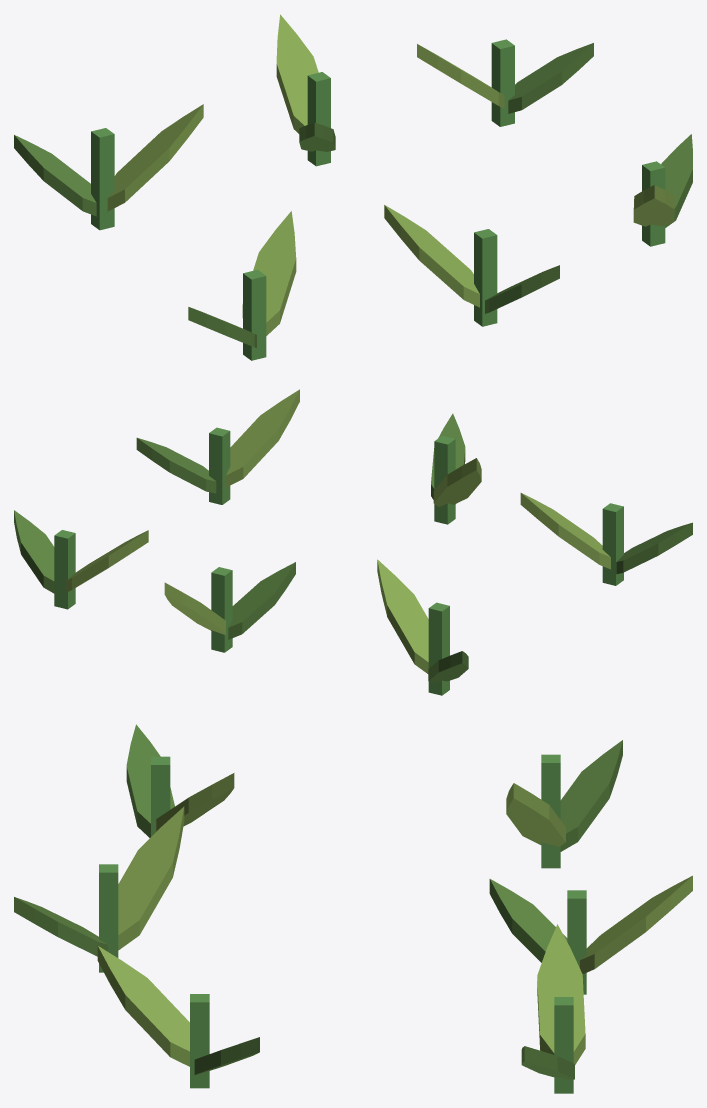
File: crop_wheat_sprout.glb
3 renders of one model, top to bottom at view 1: azimuth 30°, elevation 25°; view 2: azimuth 150°, elevation 25°; view 3: azimuth 270°, elevation 25°, orthographic. The views are drawn at different scales.
Visible parts, largest first — view 1: body__leaf2, body__green2, body__leaf; view 2: body__leaf2, body__green2, body__leaf; view 3: body__leaf2, body__leaf, body__green2.
Part boxes in pixels (x1,y1,x2,y2): body__leaf2: [107, 14, 674, 335]; body__green2: [91, 39, 665, 360]; body__leaf: [14, 43, 692, 347]; body__leaf2: [65, 389, 610, 673]; body__green2: [54, 427, 623, 695]; body__leaf: [14, 413, 692, 682]; body__leaf2: [97, 773, 692, 1066]; body__leaf: [14, 724, 622, 1079]; body__green2: [99, 754, 586, 1093].
Bounding box in the file's own units: 0.5818 × 0.1089 × 0.522.
